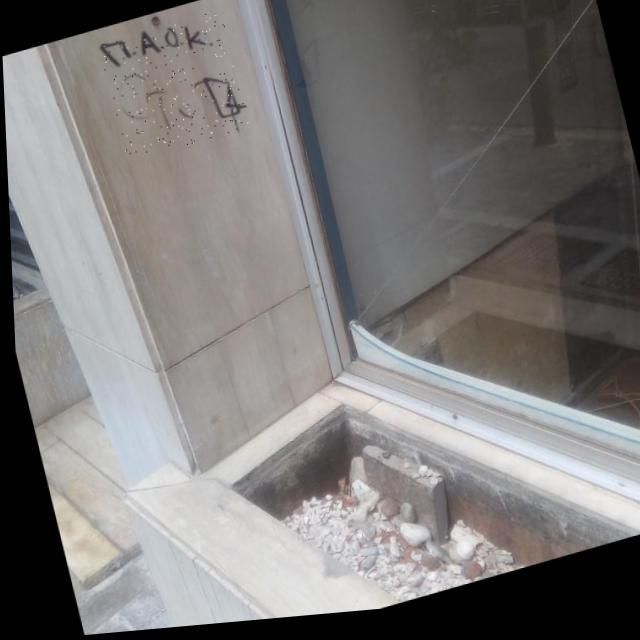-: (97, 11, 249, 166)
